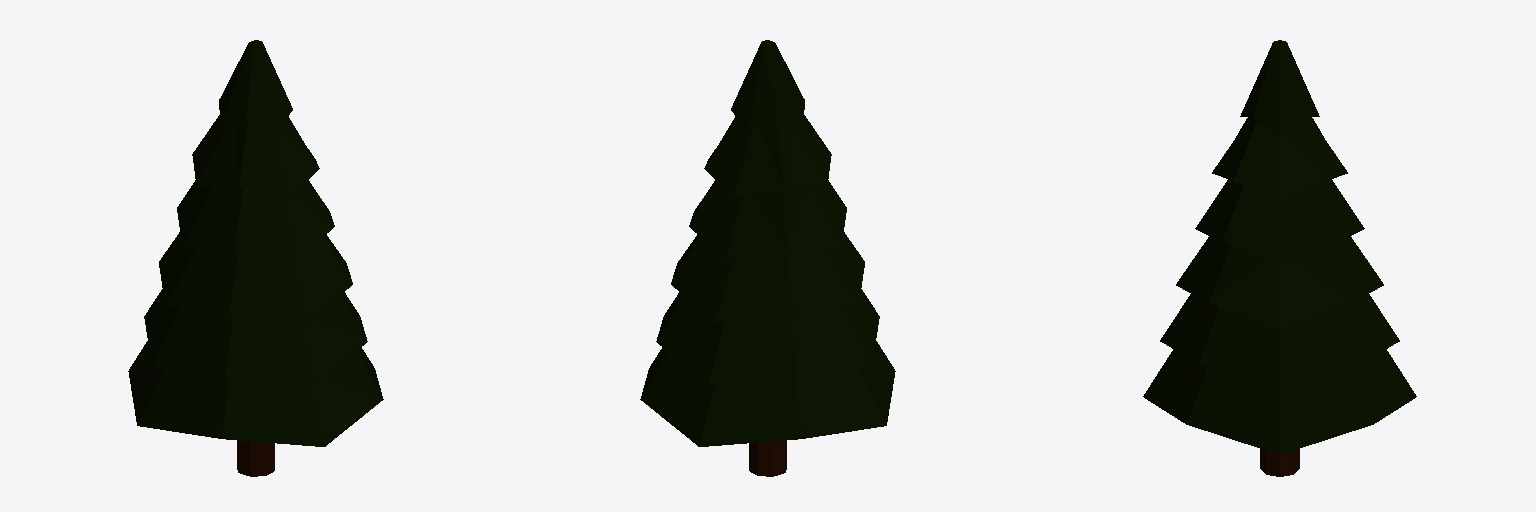
The model's file is first.obj.
3 renders of one model, left to right at view 1: azimuth 30°, elevation 25°; view 2: azimuth 150°, elevation 25°; view 3: azimuth 270°, elevation 25°, orthographic.
Parts seen in each view (by area): view 1: Cylinder; view 2: Cylinder; view 3: Cylinder.
Boxes of the visible parts, x1,y1,x2,y2 form: Cylinder: [128, 40, 383, 476]; Cylinder: [640, 40, 895, 476]; Cylinder: [1143, 40, 1416, 476].
Size of the model in its own units: 3.71 by 6.34 by 3.71.